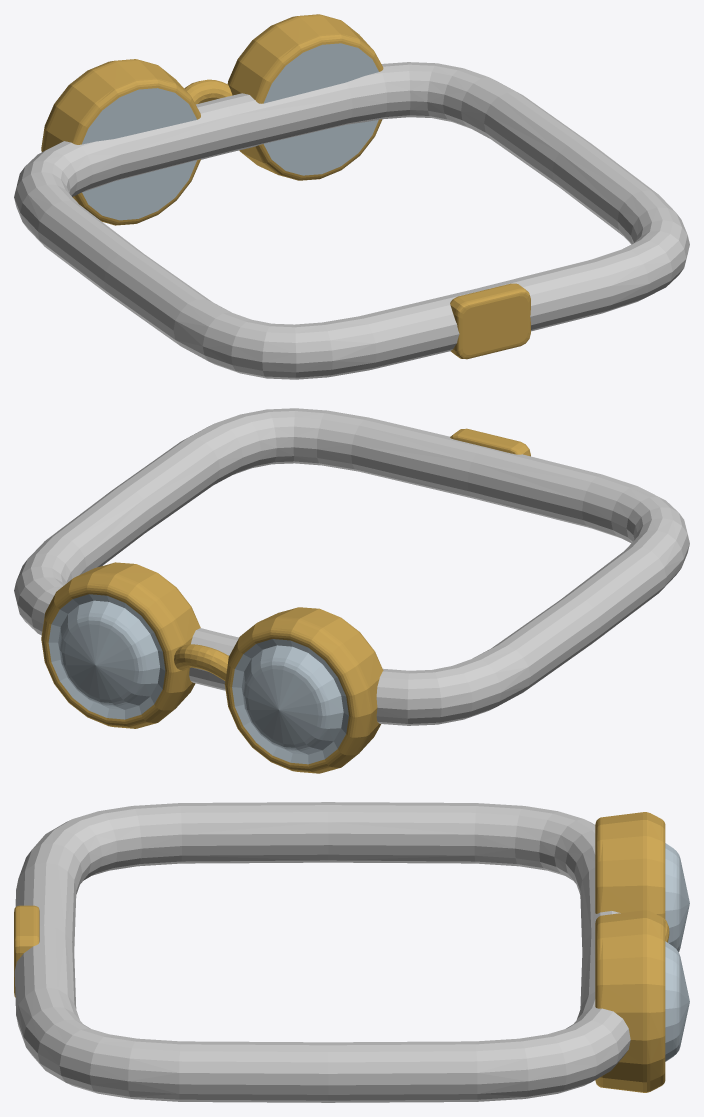
File: HatGoggles.obj
3 renders of one model, top to bottom at view 1: azimuth 30°, elevation 25°; view 2: azimuth 150°, elevation 25°; view 3: azimuth 270°, elevation 25°, orthographic. The views are drawn at different scales.
Size of the model in its own units: 1.46 by 0.428 by 1.57.
